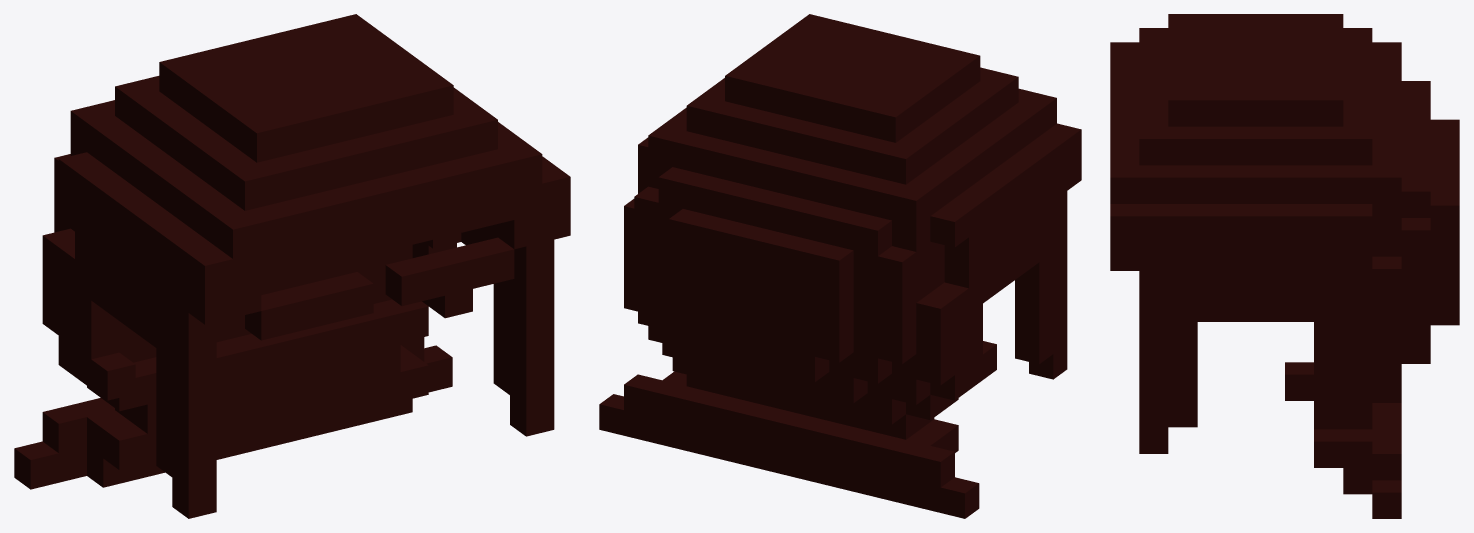
Rendered from Union_36.fbx.
The picture shows the model from 3 angles, left to right: view 1: azimuth 30°, elevation 25°; view 2: azimuth 150°, elevation 25°; view 3: azimuth 270°, elevation 25°; orthographic projection. The views are drawn at different scales.
Parts seen in each view (by area): view 1: Union_36; view 2: Union_36; view 3: Union_36.
Boxes of the visible parts, box(x1,y1,x2,y2) form: Union_36: box(14, 14, 570, 518); Union_36: box(599, 14, 1081, 518); Union_36: box(1110, 14, 1459, 518).
Size of the model in its own units: 15 by 14 by 12.
Materials: 1 (1 with a texture image).
